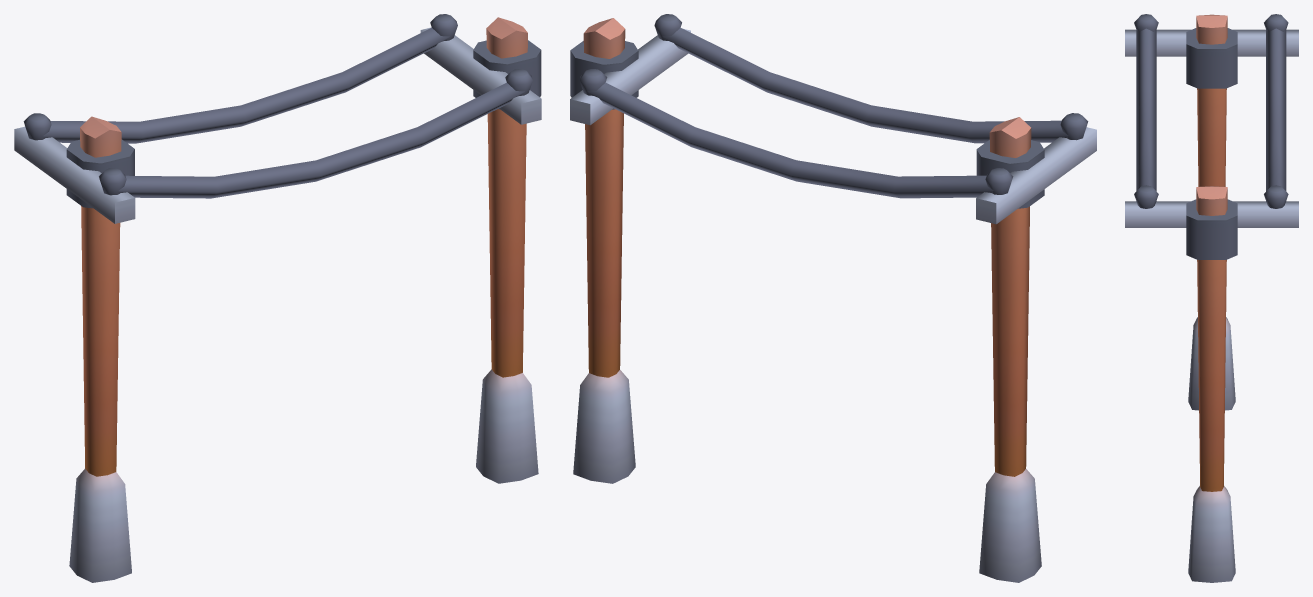
File: road_electricity_pole.glb
The picture shows the model from 3 angles, left to right: view 1: azimuth 30°, elevation 25°; view 2: azimuth 150°, elevation 25°; view 3: azimuth 270°, elevation 25°; orthographic projection. The views are drawn at different scales.
Parts seen in each view (by area): view 1: electricity-pole; view 2: electricity-pole; view 3: electricity-pole.
Boxes of the visible parts, left/top/right/bottom form: electricity-pole: left=14, top=14, right=541, bottom=582; electricity-pole: left=570, top=14, right=1096, bottom=582; electricity-pole: left=1125, top=14, right=1298, bottom=582.
Bounding box in the file's own units: 0.5791 × 0.525 × 0.2142.
1 material, 1 textured.
